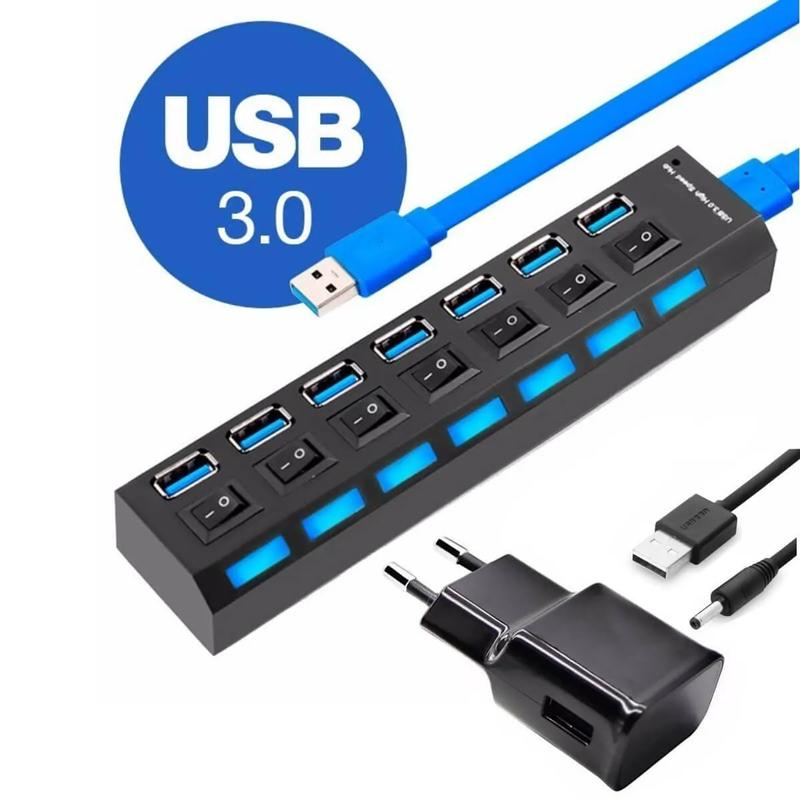USB: (298, 348, 369, 412), (502, 223, 569, 279), (369, 310, 432, 369), (227, 400, 291, 454), (144, 446, 217, 490), (441, 269, 504, 317), (577, 190, 633, 232)
